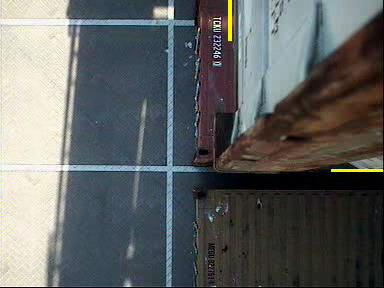groundmarker_2: (2, 123, 129, 187)
